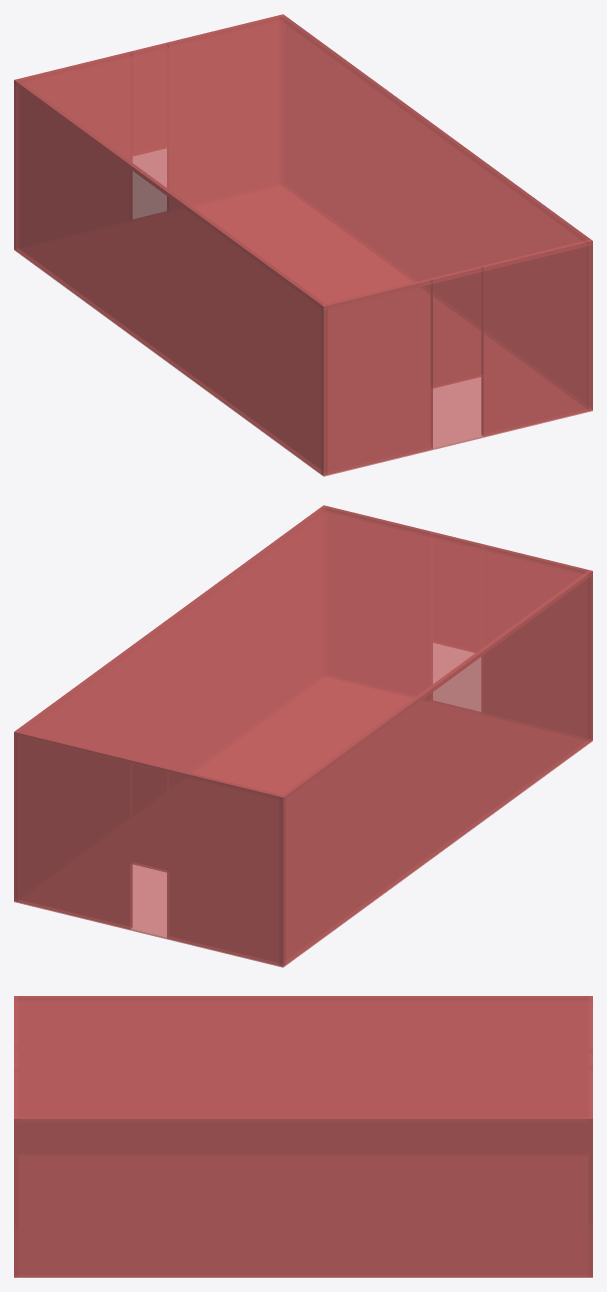
Rendered from SM_Bld_StripClub_01_Collision.fbx.
The picture shows the model from 3 angles, top to bottom: view 1: azimuth 30°, elevation 25°; view 2: azimuth 150°, elevation 25°; view 3: azimuth 270°, elevation 25°; orthographic projection. The views are drawn at different scales.
Visible parts, largest first — view 1: SM_Bld_StripClub_01_Collision; view 2: SM_Bld_StripClub_01_Collision; view 3: SM_Bld_StripClub_01_Collision.
Part boxes in pixels (left/top/right/bottom): SM_Bld_StripClub_01_Collision: left=14, top=14, right=592, bottom=476; SM_Bld_StripClub_01_Collision: left=14, top=505, right=592, bottom=967; SM_Bld_StripClub_01_Collision: left=14, top=996, right=592, bottom=1277.
Bounding box in the file's own units: 1000 × 604 × 1992.
